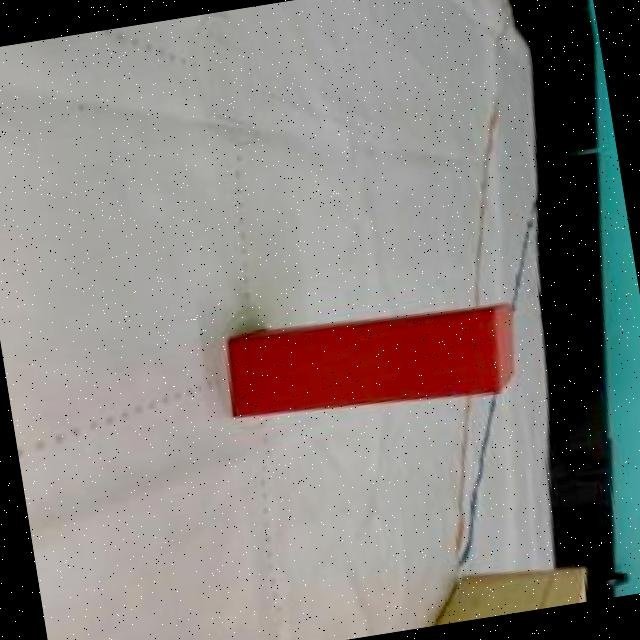redbox: (219, 292, 525, 435)
